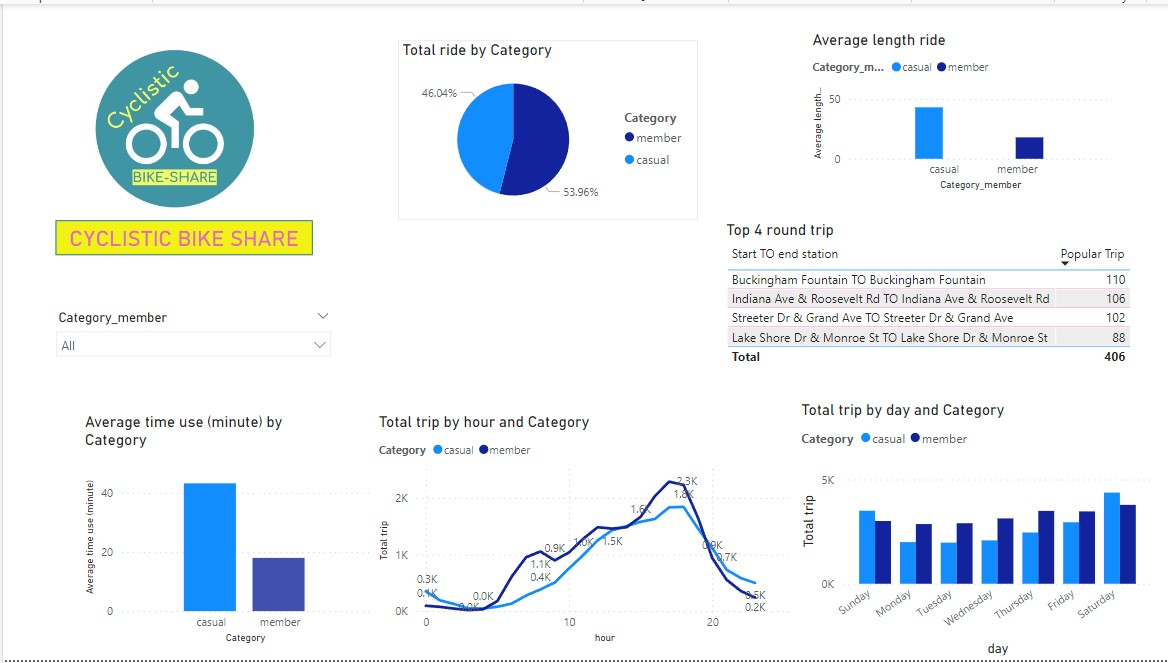

This screenshot's page, from the dashboard's own definition file:
{"tool":"powerbi","page":{"name":"Page 1","canvas":[1280,720],"ordinal":0},"visuals":[{"type":"clusteredColumnChart","fields":{"Series":["clean_data_42k_only.Category_member"],"Y":["CountNonNull(clean_data_42k_only.ride_id)"],"Category":["clean_data_42k_only.day_name"]},"box":[872,434.6,396.2,285.2],"z":0},{"type":"lineChart","fields":{"Category":["clean_data_42k_only.hour"],"Y":["CountNonNull(clean_data_42k_only.ride_id)"],"Series":["clean_data_42k_only.Category_member"]},"box":[407.2,448.3,464.8,257.8],"z":1000},{"type":"pieChart","fields":{"Category":["clean_data_42k_only.Category_member"],"Y":["CountNonNull(clean_data_42k_only.ride_id)"]},"box":[433.6,39.8,329.3,197.6],"z":2000},{"type":"clusteredColumnChart","fields":{"Y":["Avg(clean_data_42k_only.ride_length_m)"],"Category":["clean_data_42k_only.Category_member"]},"box":[85,448.3,322.2,257.8],"z":3000},{"type":"slicer","fields":{"Values":["clean_data_42k_only.Category_member"]},"box":[48,330.4,322.2,104.2],"z":4000},{"type":"image","box":[72.7,28.8,252.3,208.4],"z":5000},{"type":"shape","box":[57.6,237.2,282.4,38.4],"z":6000},{"type":"tableEx","title":"Top 4 round trip","fields":{"Values":["clean_data_42k_only.Merged start_end station","clean_data_42k_only.ride_id"]},"box":[789,237.4,491.3,168.8],"z":7000},{"type":"clusteredColumnChart","title":"Average length ride","fields":{"Y":["clean_data_42k_only.YourMeasureName"],"Category":["clean_data_42k_only.Category_member"],"Series":["clean_data_42k_only.Category_member"]},"box":[883.7,28.8,338.9,181.1],"z":8000}]}

Visuals, with their boxes in screenshot pixels (x1, y1, x2, y2), scaled from the page's 1280x720 canvas onto the 1168x663 screenshot:
clusteredColumnChart - clean_data_42k_only.Category_member x CountNonNull(clean_data_42k_only.ride_id): 796:400:1157:662
lineChart - clean_data_42k_only.hour x CountNonNull(clean_data_42k_only.ride_id): 372:413:796:650
pieChart - clean_data_42k_only.Category_member x CountNonNull(clean_data_42k_only.ride_id): 396:37:696:219
clusteredColumnChart - Avg(clean_data_42k_only.ride_length_m) x clean_data_42k_only.Category_member: 78:413:372:650
slicer - clean_data_42k_only.Category_member: 44:304:338:400
image: 66:27:297:218
shape: 53:218:310:254
"Top 4 round trip" tableEx: 720:219:1167:374
"Average length ride" clusteredColumnChart: 806:27:1116:193
